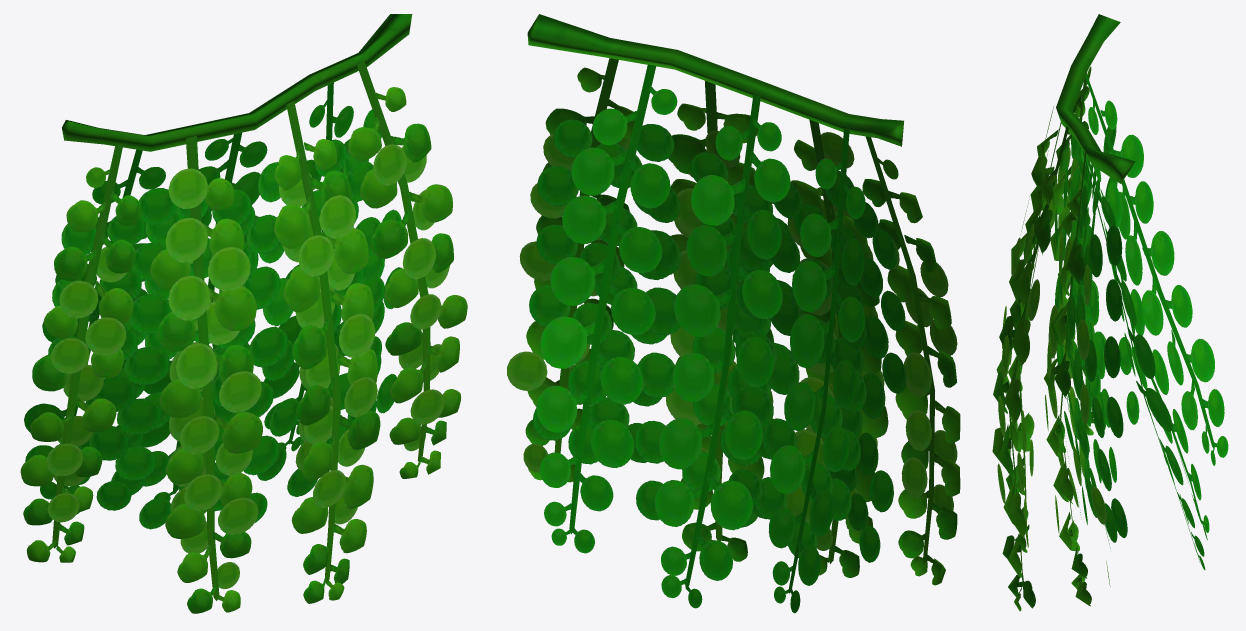
The model's file is sea-grapes.glb.
3 views of the same model, side by side, from view 1: azimuth 30°, elevation 25°; view 2: azimuth 150°, elevation 25°; view 3: azimuth 270°, elevation 25° (orthographic). The views are drawn at different scales.
Size of the model in its own units: 3.34 by 3.86 by 1.62.
1 material, 1 textured.
